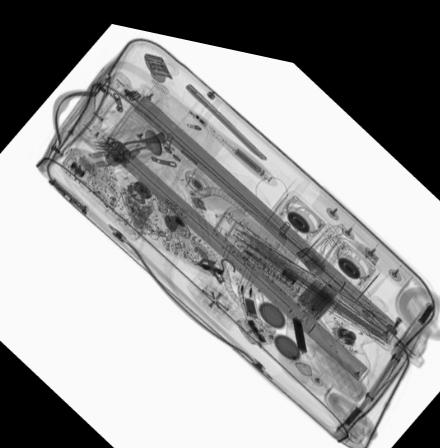Knife: (131, 196, 153, 224)
